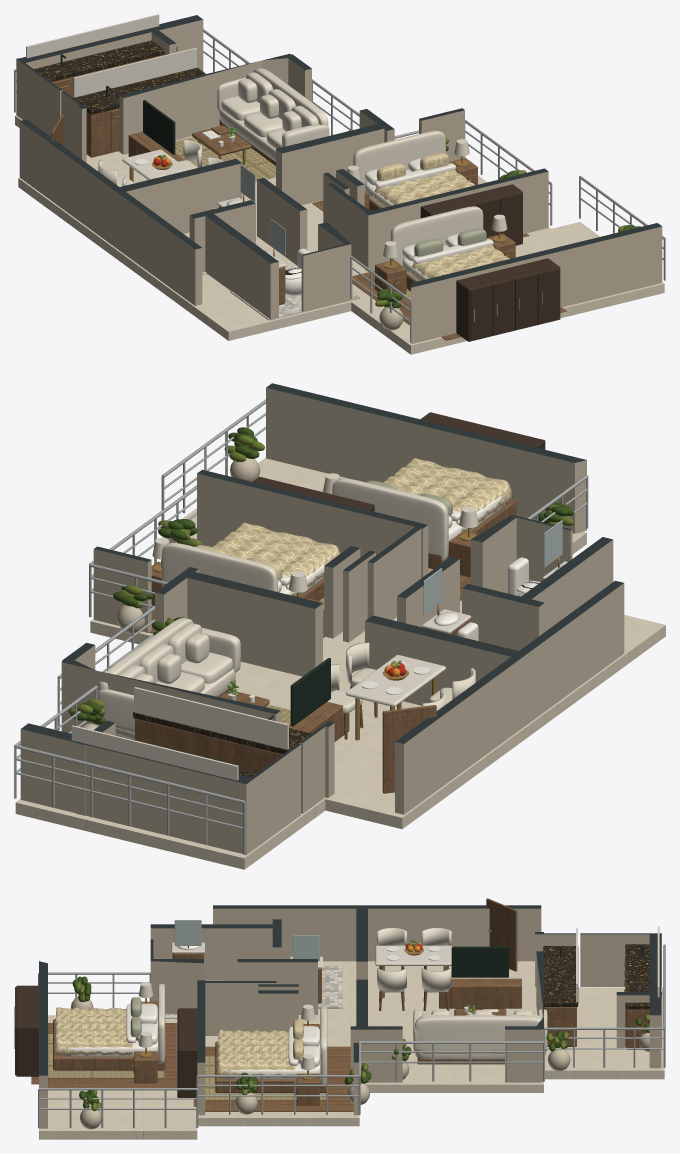
3 renders of one model, top to bottom at view 1: azimuth 30°, elevation 25°; view 2: azimuth 150°, elevation 25°; view 3: azimuth 270°, elevation 25°, orthographic. The views are drawn at different scales.
Parts seen in each view (by area): view 1: Source-traced internal and perimeter walls • Wall, Continuous apartment foundation, Backsplash.001, Padded headboard.001, Padded headboard, Fitted dark wardrobe.001, Deep green kitchen stone, Soft jacquard duvet with folds, Backsplash, Soft jacquard duvet with folds.001, Deep green kitchen stone.001, Living patterned carpet (+22 smaller); view 2: Source-traced internal and perimeter walls • Wall, Continuous apartment foundation, Backsplash.001, Soft jacquard duvet with folds.001, Soft jacquard duvet with folds, Padded headboard.001, Base cabinets.001, Padded headboard, Backsplash, Dining top, Oak entrance door, Television (+11 smaller); view 3: Source-traced internal and perimeter walls • Wall, Continuous apartment foundation, Sofa back, Soft jacquard duvet with folds.001, Soft jacquard duvet with folds, Full bedroom wood flooring, Walnut media console, Fitted dark wardrobe.001, Full bedroom wood flooring.001, Deep green kitchen stone.001, Television, Fitted dark wardrobe (+32 smaller).
Boxes of the visible parts, <box> form: Source-traced internal and perimeter walls • Wall: <box>16,15,662,343</box>; Continuous apartment foundation: <box>15,115,664,354</box>; Backsplash.001: <box>73,47,196,97</box>; Padded headboard.001: <box>390,206,483,265</box>; Padded headboard: <box>353,130,445,189</box>; Fitted dark wardrobe.001: <box>456,258,560,341</box>; Deep green kitchen stone: <box>34,40,177,80</box>; Soft jacquard duvet with folds: <box>372,169,474,207</box>; Backsplash: <box>26,14,159,58</box>; Soft jacquard duvet with folds.001: <box>410,245,509,280</box>; Deep green kitchen stone.001: <box>73,67,205,113</box>; Living patterned carpet: <box>175,137,275,182</box>; Source-traced internal and perimeter walls • Wall: <box>20,383,624,854</box>; Continuous apartment foundation: <box>15,457,665,869</box>; Backsplash.001: <box>134,687,288,749</box>; Soft jacquard duvet with folds.001: <box>383,458,513,532</box>; Soft jacquard duvet with folds: <box>212,522,340,595</box>; Padded headboard.001: <box>332,478,448,561</box>; Base cabinets.001: <box>135,718,282,773</box>; Padded headboard: <box>161,542,277,591</box>; Backsplash: <box>71,725,238,780</box>; Dining top: <box>345,655,445,706</box>; Oak entrance door: <box>382,705,436,793</box>; Television: <box>290,658,330,726</box>; Source-traced internal and perimeter walls • Wall: <box>39,905,661,1128</box>; Continuous apartment foundation: <box>39,961,664,1139</box>; Sofa back: <box>415,1015,545,1053</box>; Soft jacquard duvet with folds.001: <box>55,1007,132,1055</box>; Soft jacquard duvet with folds: <box>217,1029,295,1078</box>; Full bedroom wood flooring: <box>205,1046,353,1111</box>; Walnut media console: <box>439,978,521,1008</box>; Fitted dark wardrobe.001: <box>16,985,38,1076</box>; Full bedroom wood flooring.001: <box>48,1023,177,1087</box>; Deep green kitchen stone.001: <box>543,946,578,1005</box>; Television: <box>451,946,508,977</box>; Fitted dark wardrobe: <box>178,1008,197,1097</box>.
Bounding box in the file's own units: 7.94 × 1.7 × 12.56.
Materials: 26 (6 with a texture image).
